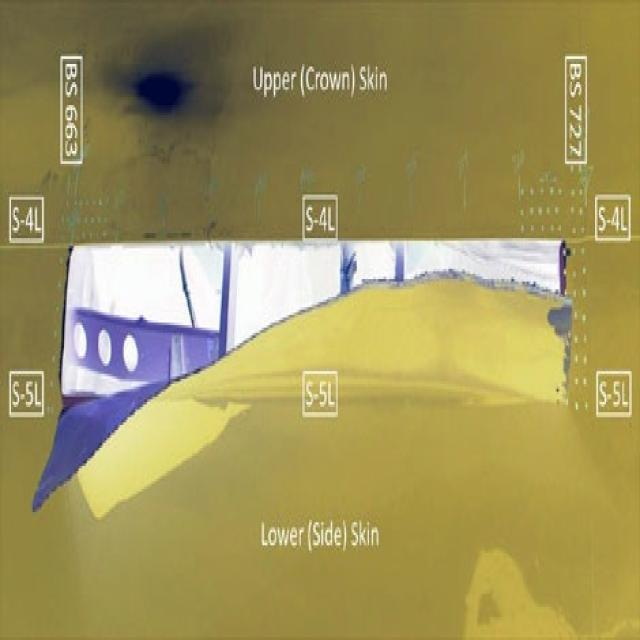crack: (29, 233, 574, 520)
